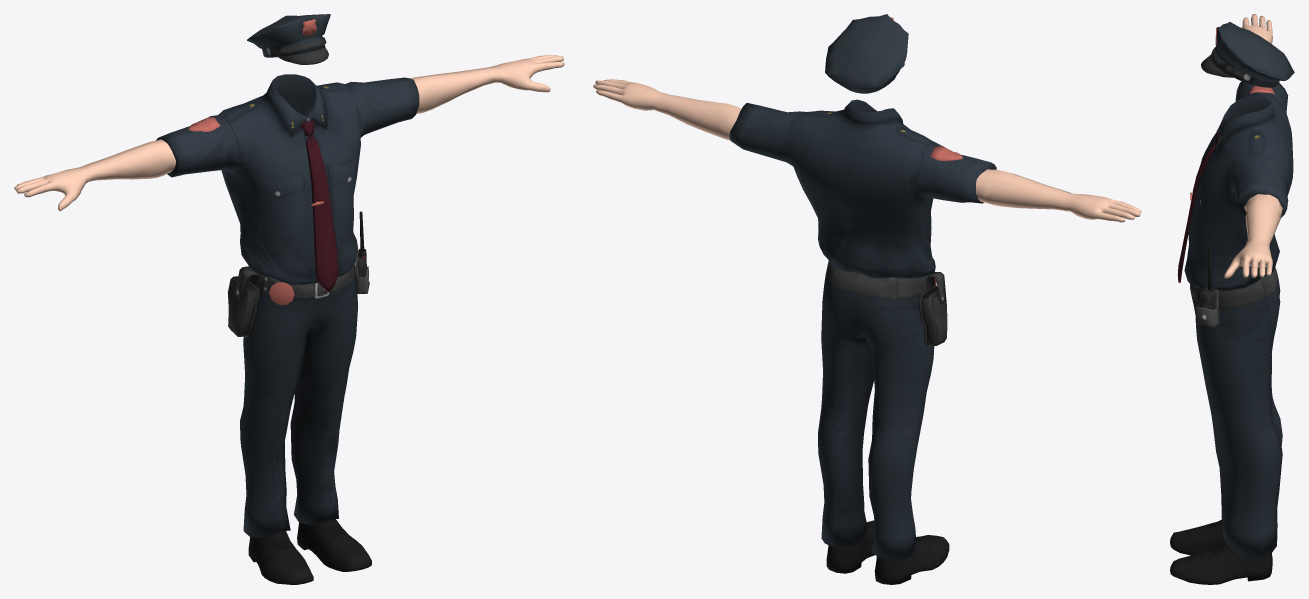
File: ManPolice_skin1.fbx
3 renders of one model, left to right at view 1: azimuth 30°, elevation 25°; view 2: azimuth 150°, elevation 25°; view 3: azimuth 270°, elevation 25°, orthographic. The views are drawn at different scales.
Visible parts, largest first — view 1: ManPolice_skin1_lod0; view 2: ManPolice_skin1_lod0; view 3: ManPolice_skin1_lod0.
Boxes of the visible parts, bbox=[...] form: ManPolice_skin1_lod0: bbox=[14, 14, 564, 584]; ManPolice_skin1_lod0: bbox=[593, 14, 1141, 584]; ManPolice_skin1_lod0: bbox=[1170, 14, 1294, 584].
Size of what is drawn, in the model's own units: 192 by 183 by 38.68.
